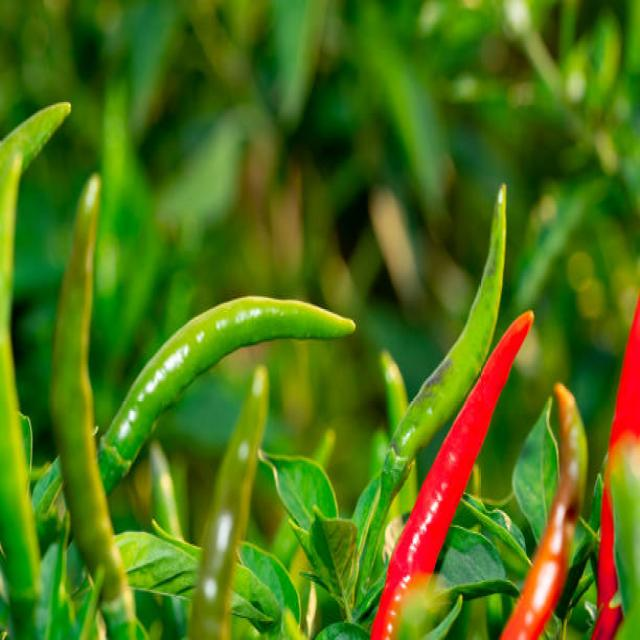Ripe: (371, 311, 532, 638), (501, 382, 586, 639), (592, 298, 640, 638)
Unripe: (359, 186, 506, 586), (99, 296, 355, 492), (51, 174, 135, 637), (0, 103, 70, 637)
